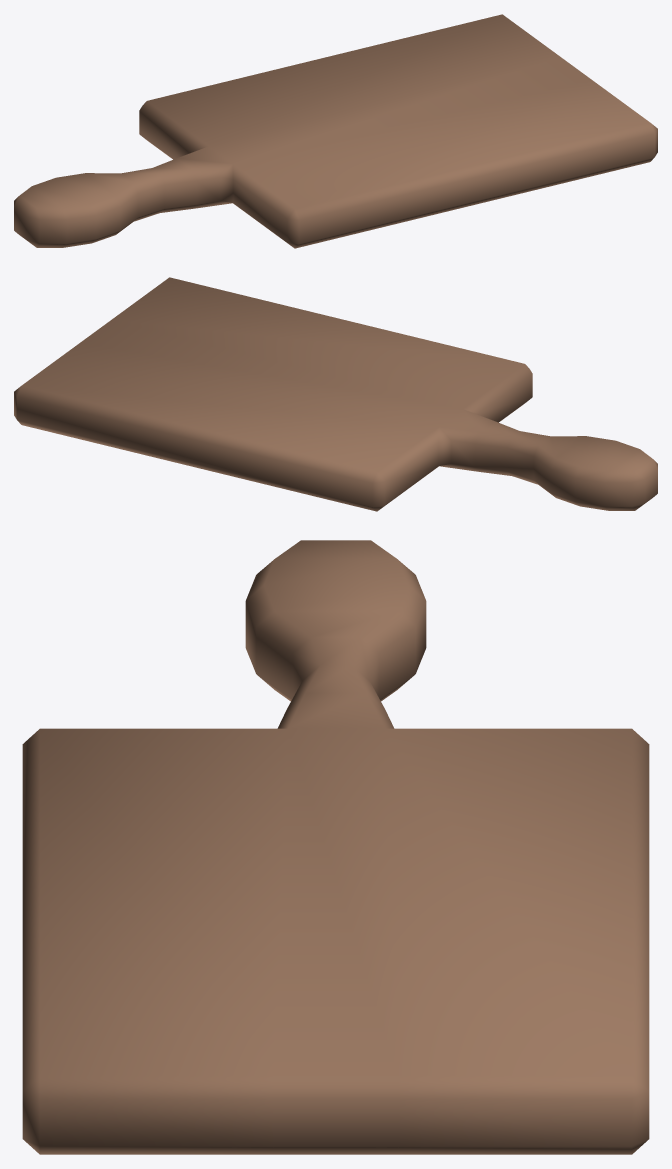
Rendered from KesmeTahtasi.fbx.
The picture shows the model from 3 angles, top to bottom: view 1: azimuth 30°, elevation 25°; view 2: azimuth 150°, elevation 25°; view 3: azimuth 270°, elevation 25°; orthographic projection. The views are drawn at different scales.
Parts seen in each view (by area): view 1: KesmeTahtasi; view 2: KesmeTahtasi; view 3: KesmeTahtasi.
Boxes of the visible parts, x1,y1,x2,y2 form: KesmeTahtasi: (14,14,657,248); KesmeTahtasi: (14,277,657,511); KesmeTahtasi: (22,540,649,1154).
Size of the model in its own units: 33.78 by 2.27 by 16.27.
